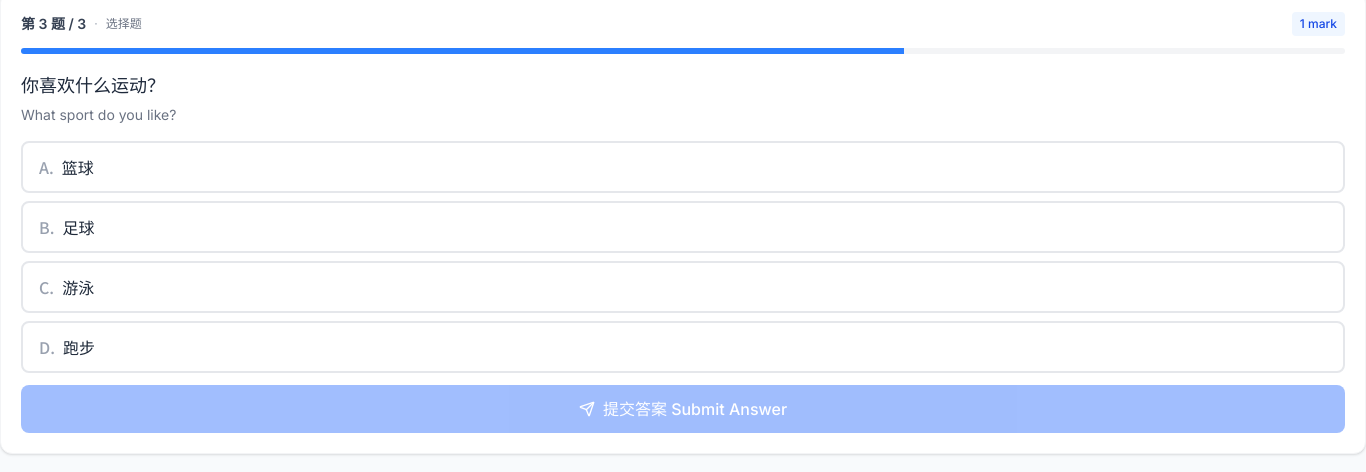
Scenario: QuestionCard — independent per-question state › shows Finish button instead of Next on the last question
Click the radio button labelled "A.篮球" at [78, 167], box [21,141,1345,193]
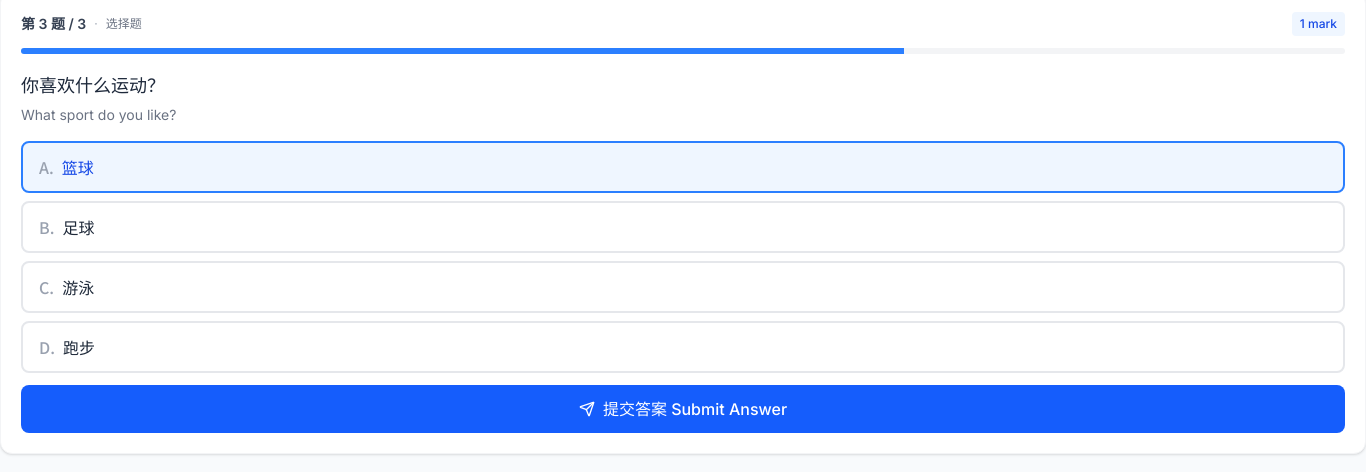
Click the button "提交答案 Submit Answer" at [683, 409], box [21,385,1345,433]
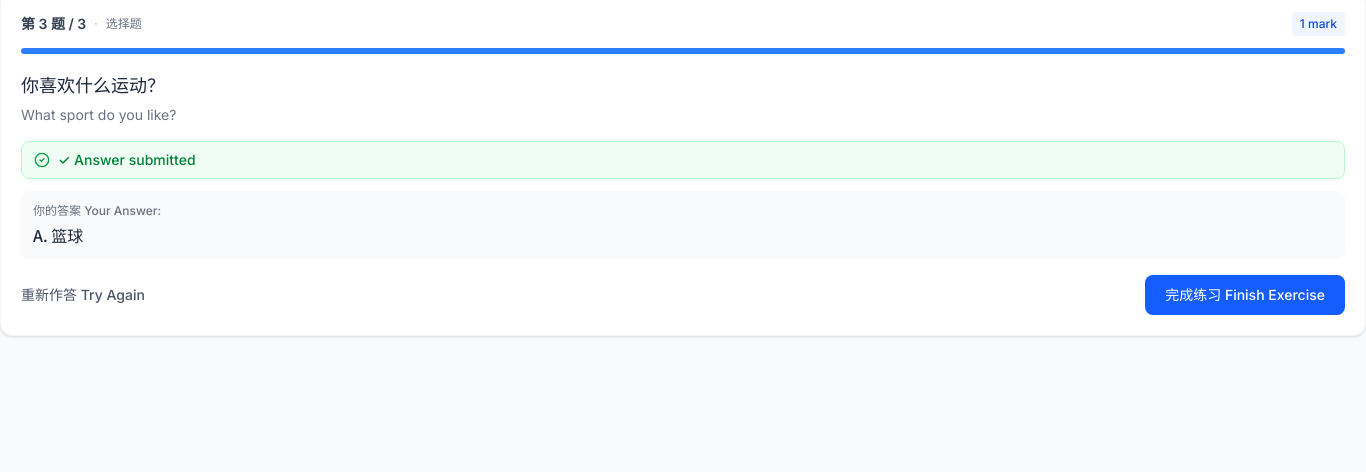
Expected: the button "完成练习 Finish Exercise" is shown, [1145,275,1345,315]
